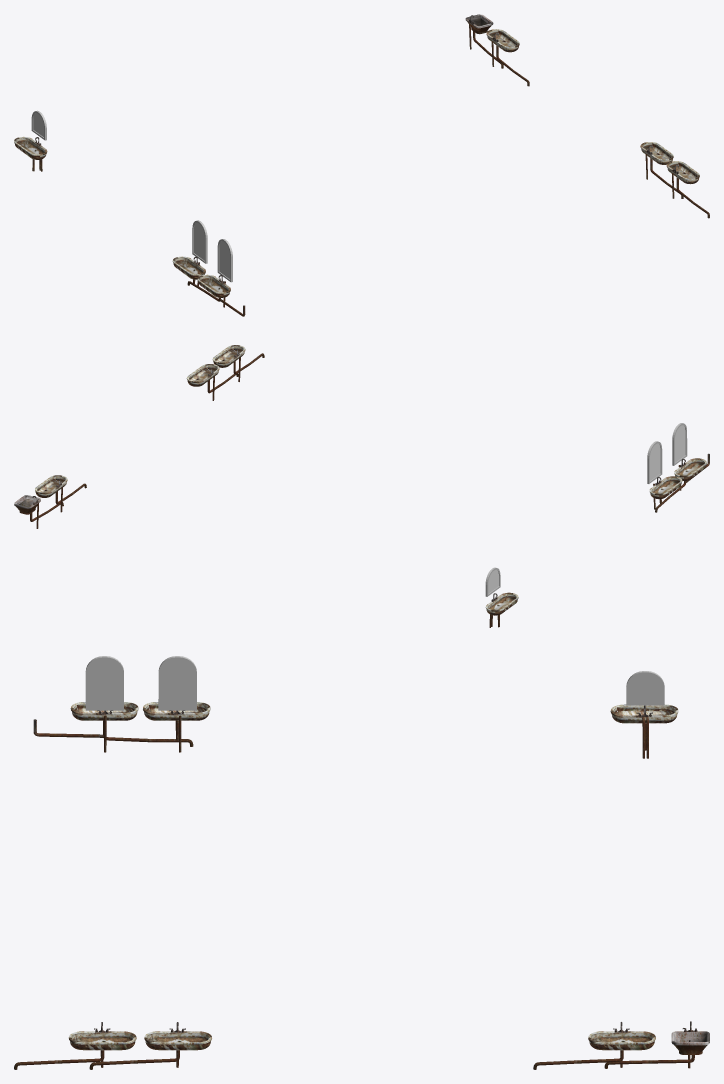
File: SM_Toilets_00_Faucets_00.fbx
3 views of the same model, one above another, from view 1: azimuth 30°, elevation 25°; view 2: azimuth 150°, elevation 25°; view 3: azimuth 270°, elevation 25° (orthographic). The views are drawn at different scales.
Parts seen in each view (by area): view 1: SM_Toilets_00_Faucets_00; view 2: SM_Toilets_00_Faucets_00; view 3: SM_Toilets_00_Faucets_00.
Boxes of the visible parts, left/top/right/bottom form: SM_Toilets_00_Faucets_00: left=14, top=14, right=709, bottom=316; SM_Toilets_00_Faucets_00: left=14, top=345, right=709, bottom=627; SM_Toilets_00_Faucets_00: left=14, top=656, right=709, bottom=1069.
Bounding box in the file's own units: 2522 × 342 × 2172.
